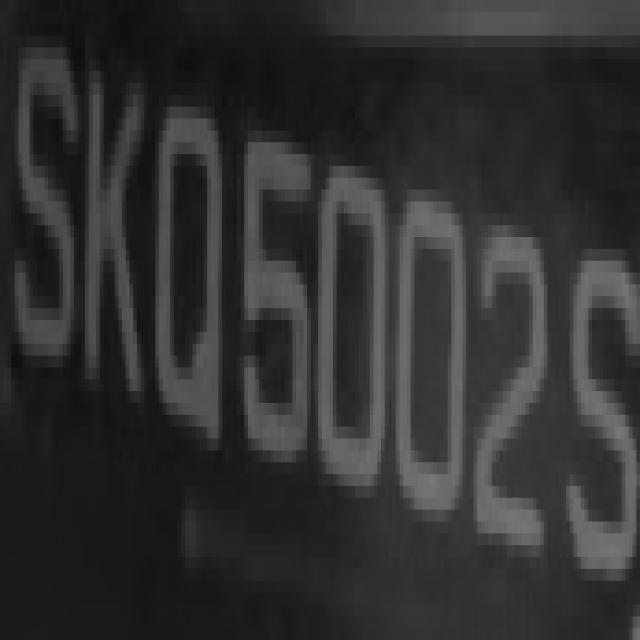0: (385, 154, 470, 545), (318, 130, 385, 498)
2: (466, 166, 544, 593)
5: (233, 95, 318, 474)
K: (81, 36, 148, 438)
Q: (152, 95, 226, 474)
S: (562, 214, 640, 616), (8, 0, 82, 391)
